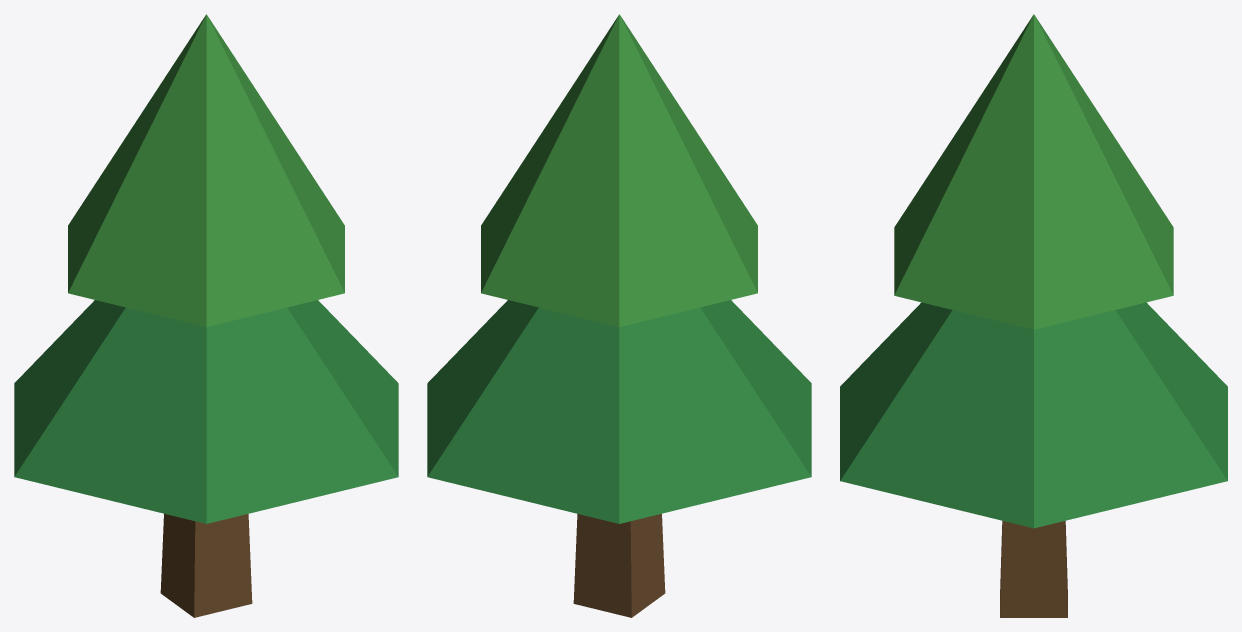
Rendered from tree.obj.
The picture shows the model from 3 angles, left to right: view 1: azimuth 30°, elevation 25°; view 2: azimuth 150°, elevation 25°; view 3: azimuth 270°, elevation 25°; orthographic projection.
Size of the model in its own units: 1.72 by 2.5 by 1.49.
